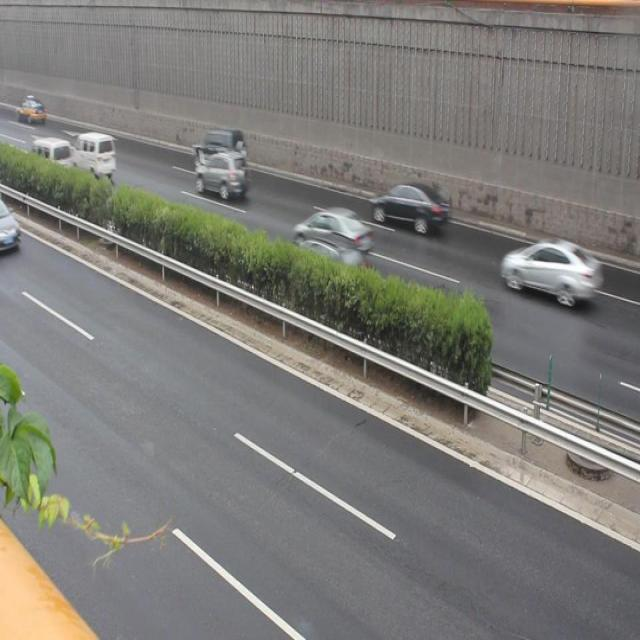car: (500, 234, 601, 310), (275, 235, 365, 297), (292, 203, 372, 260), (368, 178, 446, 236), (196, 149, 248, 204), (193, 129, 246, 174), (1, 196, 19, 256)
truck: (21, 138, 77, 188), (67, 132, 116, 176)
